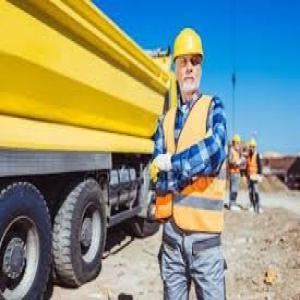yellow: (174, 24, 208, 96)
